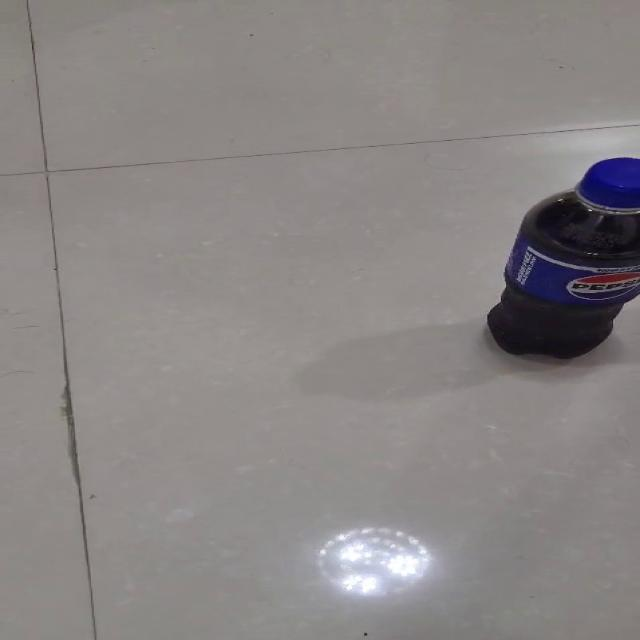plastic: (484, 156, 638, 359)
